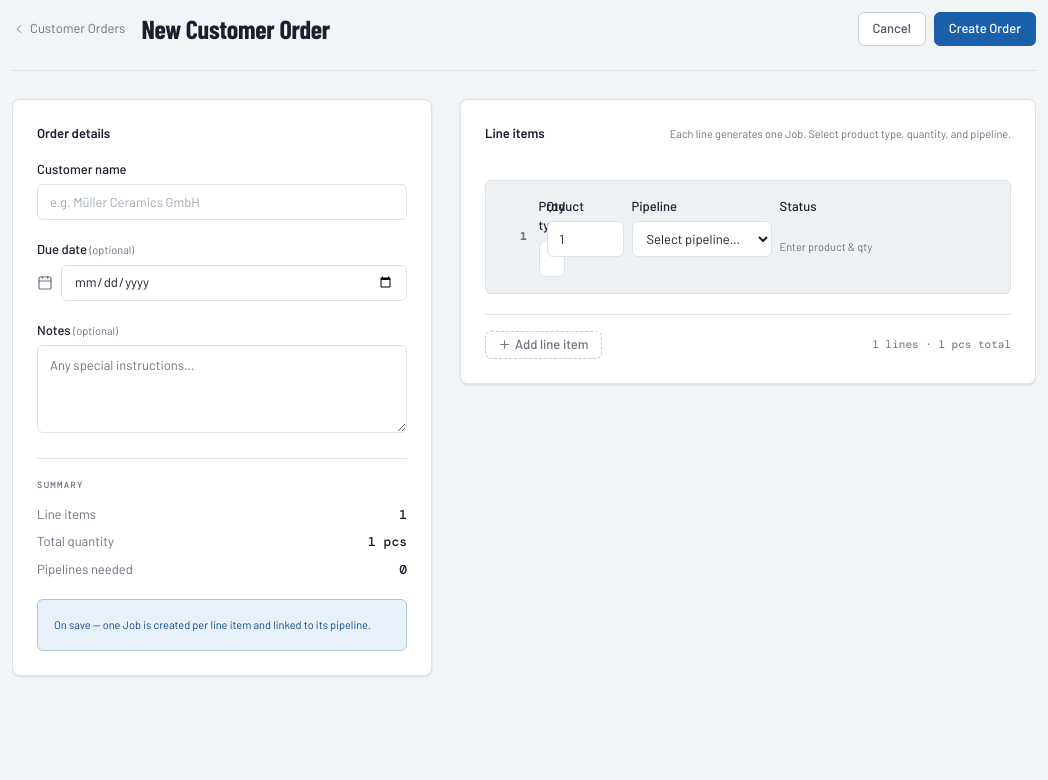
Test: CustomerOrderForm › should show validation error when customer name is empty
Click the button "Create Order" at [985, 29], box x1=934 y1=12 x2=1036 y2=46
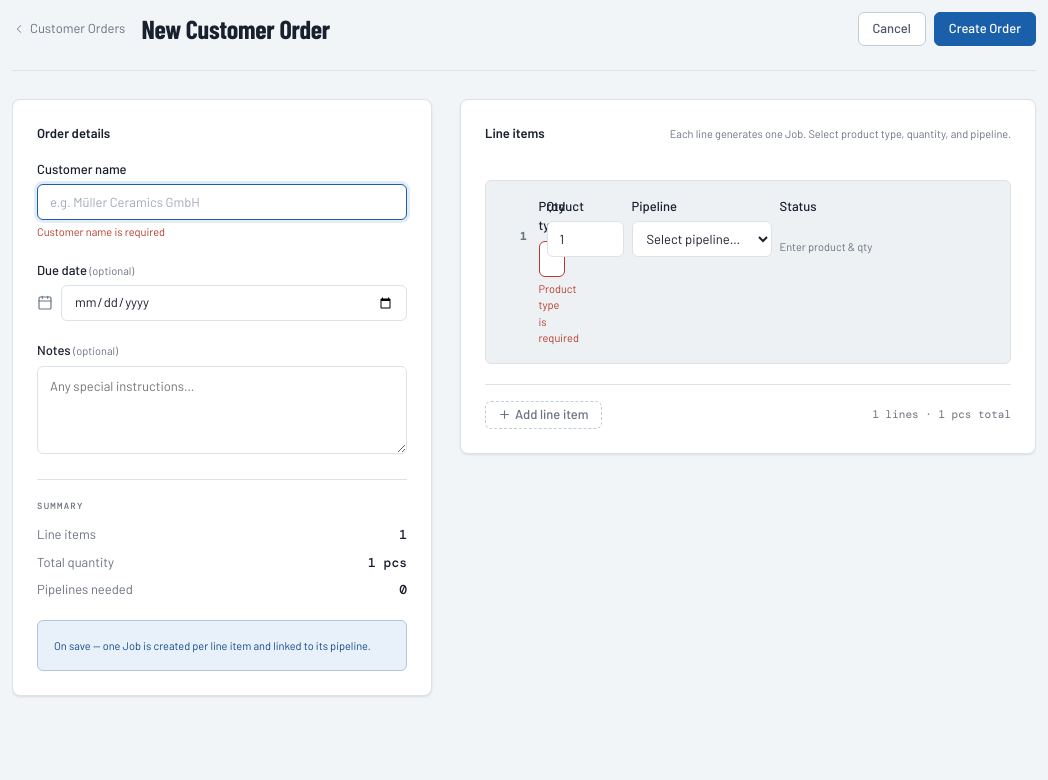
Now the text "Customer name is required" is shown, box x1=37 y1=225 x2=165 y2=238
